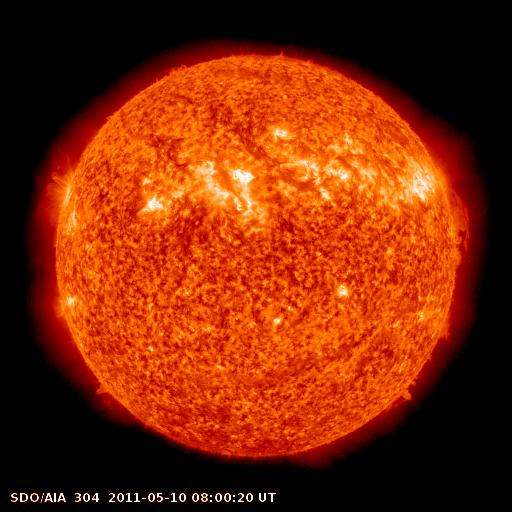prominence: (435, 181, 482, 271), (424, 313, 467, 351), (387, 375, 427, 411), (89, 377, 118, 407)
